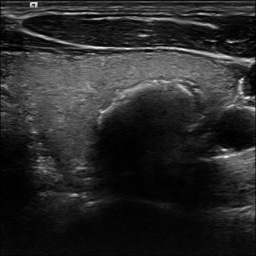mass: (98, 80, 203, 151)
